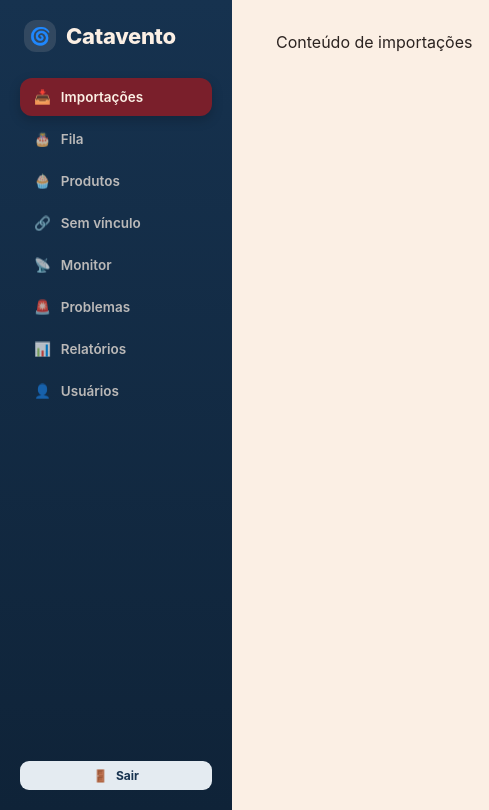
Test: AppShell › mostra o link de Monitor e navega pra ele
The width and height of the screenshot is (489, 810).
Click the text "Monitor".
click(86, 265)  # box [61, 257, 112, 273]
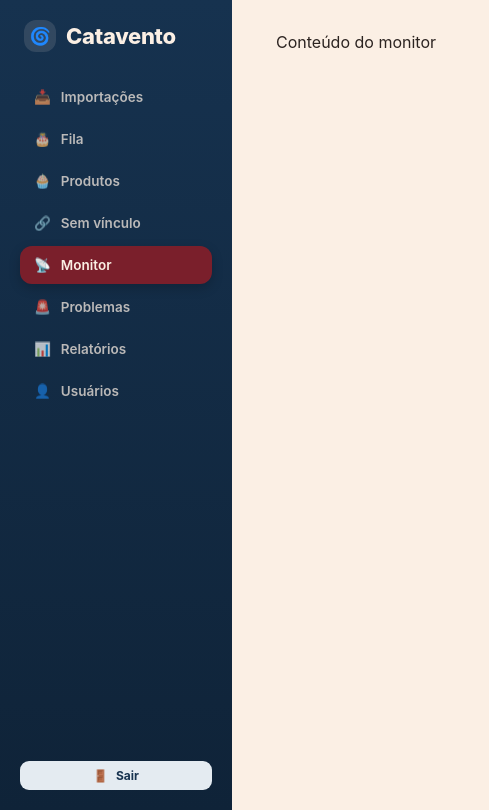
Expected: the text "Conteúdo do monitor" is shown, [276, 32, 436, 52]
